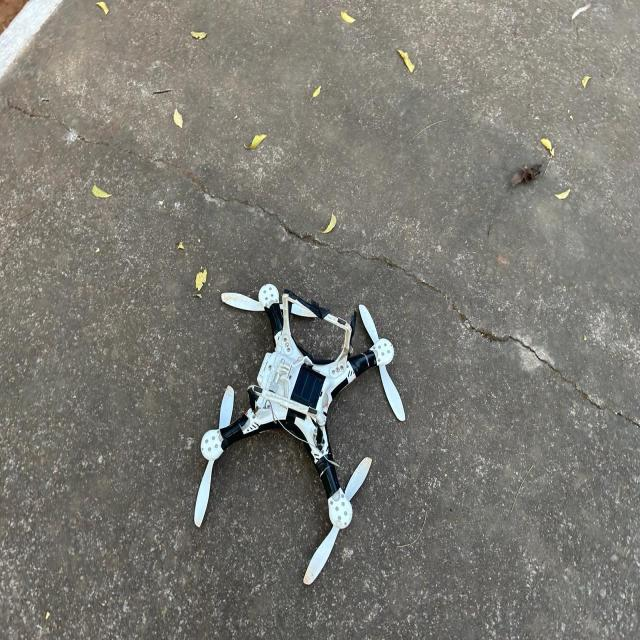drone: (121, 204, 463, 615)
